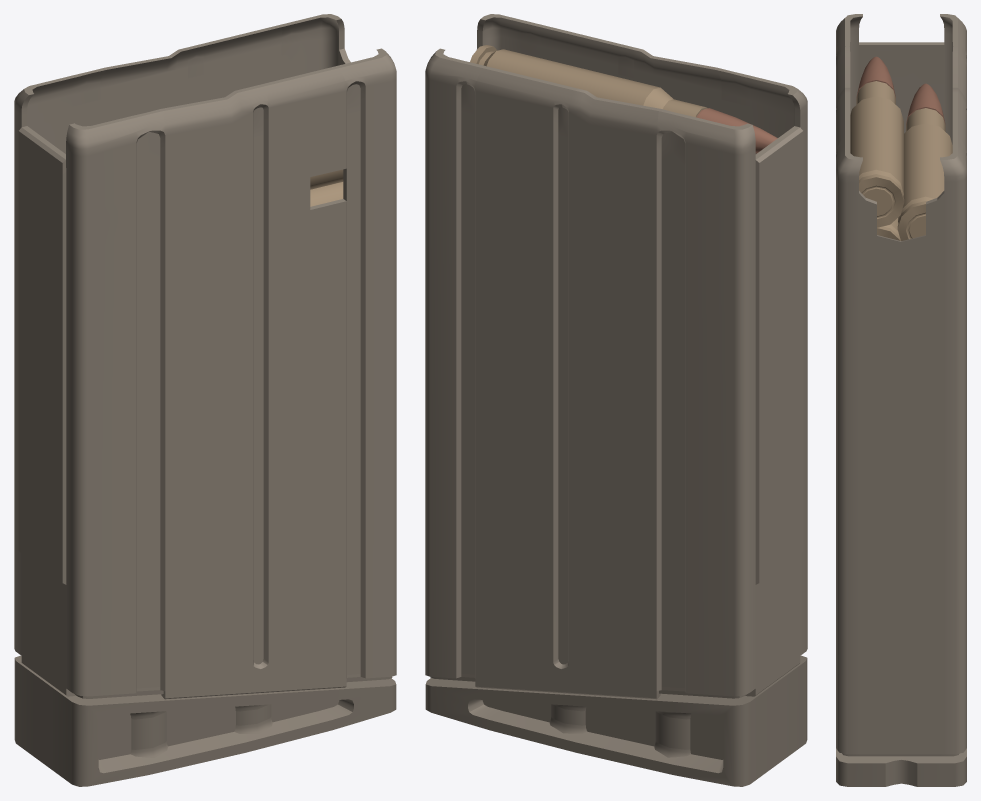
Rendered from Scar_Ammo.fbx.
3 renders of one model, left to right at view 1: azimuth 30°, elevation 25°; view 2: azimuth 150°, elevation 25°; view 3: azimuth 270°, elevation 25°, orthographic. The views are drawn at different scales.
Visible parts, largest first — view 1: polySurface1743; view 2: polySurface1743; view 3: polySurface1743.
Part boxes in pixels (x1=…): polySurface1743: x1=14, y1=14, x2=396, y2=786; polySurface1743: x1=425, y1=14, x2=807, y2=786; polySurface1743: x1=836, y1=14, x2=966, y2=786.
Size of the model in its own units: 4.63 by 8.91 by 1.68.
